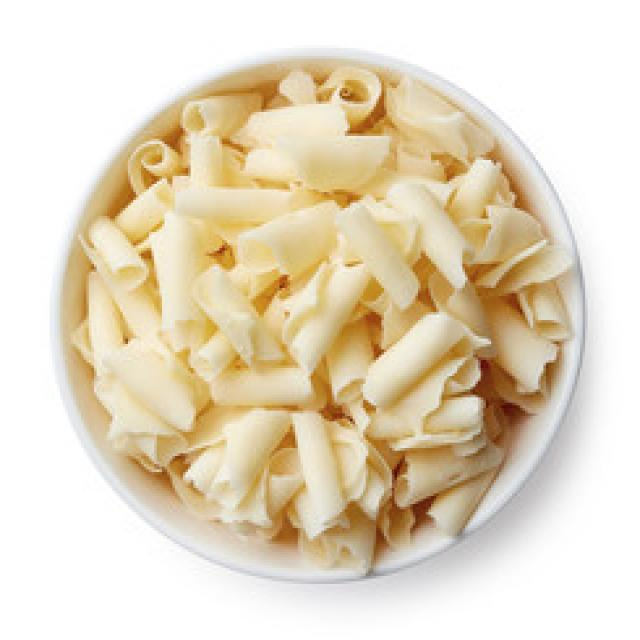chocolate: (81, 60, 574, 571)
